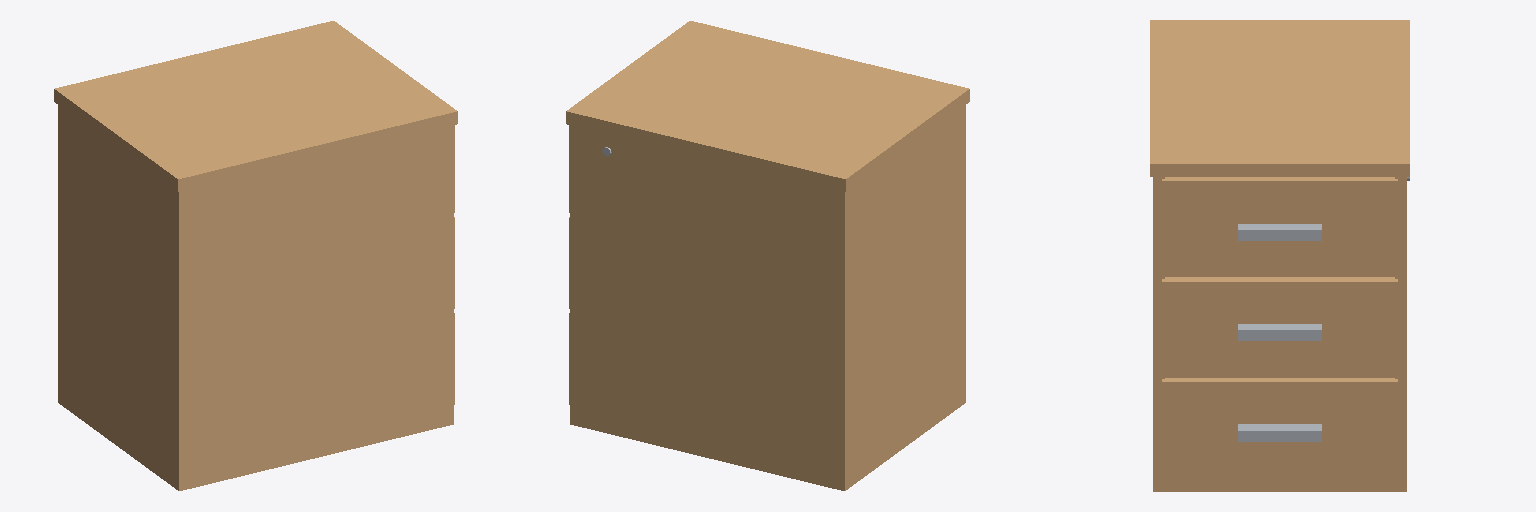
URDF robot description (three_drawer_pedestal):
<?xml version="1.0"?>
<robot name="three_drawer_pedestal">
  <material name="beech">
    <color rgba="0.87 0.71 0.53 1.0"/>
  </material>
  <material name="dark">
    <color rgba="0.15 0.15 0.17 1.0"/>
  </material>
  <material name="silver">
    <color rgba="0.75 0.77 0.80 1.0"/>
  </material>
  <material name="tray_grey">
    <color rgba="0.78 0.81 0.78 1.0"/>
  </material>

  <!-- BASE / CARCASS : frame at floor, x forward (drawer opening), y width, z up -->
  <link name="base_link">
    <inertial>
      <origin xyz="0 0 0.30" rpy="0 0 0"/>
      <mass value="22.0"/>
      <inertia ixx="0.98" ixy="0" ixz="0" iyy="1.21" iyz="0" izz="0.88"/>
    </inertial>
    <!-- top panel -->
    <visual>
      <origin xyz="0 0 0.5875" rpy="0 0 0"/>
      <geometry><box size="0.56 0.43 0.025"/></geometry>
      <material name="beech"/>
    </visual>
    <collision>
      <origin xyz="0 0 0.5875" rpy="0 0 0"/>
      <geometry><box size="0.56 0.43 0.025"/></geometry>
    </collision>
    <!-- bottom panel -->
    <visual>
      <origin xyz="0 0 0.0125" rpy="0 0 0"/>
      <geometry><box size="0.55 0.42 0.025"/></geometry>
      <material name="beech"/>
    </visual>
    <collision>
      <origin xyz="0 0 0.0125" rpy="0 0 0"/>
      <geometry><box size="0.55 0.42 0.025"/></geometry>
    </collision>
    <!-- left side -->
    <visual>
      <origin xyz="0 0.20 0.30" rpy="0 0 0"/>
      <geometry><box size="0.55 0.02 0.55"/></geometry>
      <material name="beech"/>
    </visual>
    <collision>
      <origin xyz="0 0.20 0.30" rpy="0 0 0"/>
      <geometry><box size="0.55 0.02 0.55"/></geometry>
    </collision>
    <!-- right side -->
    <visual>
      <origin xyz="0 -0.20 0.30" rpy="0 0 0"/>
      <geometry><box size="0.55 0.02 0.55"/></geometry>
      <material name="beech"/>
    </visual>
    <collision>
      <origin xyz="0 -0.20 0.30" rpy="0 0 0"/>
      <geometry><box size="0.55 0.02 0.55"/></geometry>
    </collision>
    <!-- back panel -->
    <visual>
      <origin xyz="-0.265 0 0.30" rpy="0 0 0"/>
      <geometry><box size="0.02 0.38 0.55"/></geometry>
      <material name="beech"/>
    </visual>
    <collision>
      <origin xyz="-0.265 0 0.30" rpy="0 0 0"/>
      <geometry><box size="0.02 0.38 0.55"/></geometry>
    </collision>
    <!-- lock cylinder on front-left side -->
    <visual>
      <origin xyz="0.20 0.211 0.54" rpy="1.5708 0 0"/>
      <geometry><cylinder radius="0.008" length="0.006"/></geometry>
      <material name="silver"/>
    </visual>
  </link>

  <!-- TOP DRAWER -->
  <link name="drawer_top">
    <inertial>
      <origin xyz="-0.24 0 -0.03" rpy="0 0 0"/>
      <mass value="3.5"/>
      <inertia ixx="0.04" ixy="0" ixz="0" iyy="0.06" iyz="0" izz="0.06"/>
    </inertial>
    <visual>
      <origin xyz="0 0 0" rpy="0 0 0"/>
      <geometry><box size="0.02 0.39 0.175"/></geometry>
      <material name="beech"/>
    </visual>
    <collision>
      <origin xyz="0 0 0" rpy="0 0 0"/>
      <geometry><box size="0.02 0.39 0.175"/></geometry>
    </collision>
    <visual>
      <origin xyz="0.0225 0 0" rpy="0 0 0"/>
      <geometry><box size="0.025 0.14 0.02"/></geometry>
      <material name="silver"/>
    </visual>
    <collision>
      <origin xyz="0.0225 0 0" rpy="0 0 0"/>
      <geometry><box size="0.025 0.14 0.02"/></geometry>
    </collision>
    <visual>
      <origin xyz="-0.24 0 -0.085" rpy="0 0 0"/>
      <geometry><box size="0.46 0.34 0.01"/></geometry>
      <material name="dark"/>
    </visual>
    <collision>
      <origin xyz="-0.24 0 -0.085" rpy="0 0 0"/>
      <geometry><box size="0.46 0.34 0.01"/></geometry>
    </collision>
    <visual>
      <origin xyz="-0.24 0.165 -0.025" rpy="0 0 0"/>
      <geometry><box size="0.46 0.01 0.12"/></geometry>
      <material name="dark"/>
    </visual>
    <visual>
      <origin xyz="-0.24 -0.165 -0.025" rpy="0 0 0"/>
      <geometry><box size="0.46 0.01 0.12"/></geometry>
      <material name="dark"/>
    </visual>
    <visual>
      <origin xyz="-0.465 0 -0.025" rpy="0 0 0"/>
      <geometry><box size="0.01 0.34 0.12"/></geometry>
      <material name="dark"/>
    </visual>
    <visual>
      <origin xyz="-0.36 0.08 0.0" rpy="0 0 0"/>
      <geometry><box size="0.12 0.12 0.05"/></geometry>
      <material name="tray_grey"/>
    </visual>
  </link>

  <!-- MIDDLE DRAWER -->
  <link name="drawer_middle">
    <inertial>
      <origin xyz="-0.24 0 -0.03" rpy="0 0 0"/>
      <mass value="3.5"/>
      <inertia ixx="0.04" ixy="0" ixz="0" iyy="0.06" iyz="0" izz="0.06"/>
    </inertial>
    <visual>
      <origin xyz="0 0 0" rpy="0 0 0"/>
      <geometry><box size="0.02 0.39 0.175"/></geometry>
      <material name="beech"/>
    </visual>
    <collision>
      <origin xyz="0 0 0" rpy="0 0 0"/>
      <geometry><box size="0.02 0.39 0.175"/></geometry>
    </collision>
    <visual>
      <origin xyz="0.0225 0 0" rpy="0 0 0"/>
      <geometry><box size="0.025 0.14 0.02"/></geometry>
      <material name="silver"/>
    </visual>
    <collision>
      <origin xyz="0.0225 0 0" rpy="0 0 0"/>
      <geometry><box size="0.025 0.14 0.02"/></geometry>
    </collision>
    <visual>
      <origin xyz="-0.24 0 -0.085" rpy="0 0 0"/>
      <geometry><box size="0.46 0.34 0.01"/></geometry>
      <material name="dark"/>
    </visual>
    <collision>
      <origin xyz="-0.24 0 -0.085" rpy="0 0 0"/>
      <geometry><box size="0.46 0.34 0.01"/></geometry>
    </collision>
    <visual>
      <origin xyz="-0.24 0.165 -0.025" rpy="0 0 0"/>
      <geometry><box size="0.46 0.01 0.12"/></geometry>
      <material name="dark"/>
    </visual>
    <visual>
      <origin xyz="-0.24 -0.165 -0.025" rpy="0 0 0"/>
      <geometry><box size="0.46 0.01 0.12"/></geometry>
      <material name="dark"/>
    </visual>
    <visual>
      <origin xyz="-0.465 0 -0.025" rpy="0 0 0"/>
      <geometry><box size="0.01 0.34 0.12"/></geometry>
      <material name="dark"/>
    </visual>
    <visual>
      <origin xyz="-0.36 0.08 0.0" rpy="0 0 0"/>
      <geometry><box size="0.12 0.12 0.05"/></geometry>
      <material name="tray_grey"/>
    </visual>
  </link>

  <!-- BOTTOM DRAWER -->
  <link name="drawer_bottom">
    <inertial>
      <origin xyz="-0.24 0 -0.03" rpy="0 0 0"/>
      <mass value="3.5"/>
      <inertia ixx="0.04" ixy="0" ixz="0" iyy="0.06" iyz="0" izz="0.06"/>
    </inertial>
    <visual>
      <origin xyz="0 0 0" rpy="0 0 0"/>
      <geometry><box size="0.02 0.39 0.175"/></geometry>
      <material name="beech"/>
    </visual>
    <collision>
      <origin xyz="0 0 0" rpy="0 0 0"/>
      <geometry><box size="0.02 0.39 0.175"/></geometry>
    </collision>
    <visual>
      <origin xyz="0.0225 0 0" rpy="0 0 0"/>
      <geometry><box size="0.025 0.14 0.02"/></geometry>
      <material name="silver"/>
    </visual>
    <collision>
      <origin xyz="0.0225 0 0" rpy="0 0 0"/>
      <geometry><box size="0.025 0.14 0.02"/></geometry>
    </collision>
    <visual>
      <origin xyz="-0.24 0 -0.085" rpy="0 0 0"/>
      <geometry><box size="0.46 0.34 0.01"/></geometry>
      <material name="dark"/>
    </visual>
    <collision>
      <origin xyz="-0.24 0 -0.085" rpy="0 0 0"/>
      <geometry><box size="0.46 0.34 0.01"/></geometry>
    </collision>
    <visual>
      <origin xyz="-0.24 0.165 -0.025" rpy="0 0 0"/>
      <geometry><box size="0.46 0.01 0.12"/></geometry>
      <material name="dark"/>
    </visual>
    <visual>
      <origin xyz="-0.24 -0.165 -0.025" rpy="0 0 0"/>
      <geometry><box size="0.46 0.01 0.12"/></geometry>
      <material name="dark"/>
    </visual>
    <visual>
      <origin xyz="-0.465 0 -0.025" rpy="0 0 0"/>
      <geometry><box size="0.01 0.34 0.12"/></geometry>
      <material name="dark"/>
    </visual>
    <visual>
      <origin xyz="-0.36 0.08 0.0" rpy="0 0 0"/>
      <geometry><box size="0.12 0.12 0.05"/></geometry>
      <material name="tray_grey"/>
    </visual>
  </link>

  <joint name="joint_top" type="prismatic">
    <parent link="base_link"/>
    <child link="drawer_top"/>
    <origin xyz="0.275 0 0.483" rpy="0 0 0"/>
    <axis xyz="1 0 0"/>
    <limit lower="0" upper="0.38" effort="50" velocity="0.5"/>
    <dynamics damping="10" friction="5"/>
  </joint>

  <joint name="joint_middle" type="prismatic">
    <parent link="base_link"/>
    <child link="drawer_middle"/>
    <origin xyz="0.275 0 0.30" rpy="0 0 0"/>
    <axis xyz="1 0 0"/>
    <limit lower="0" upper="0.38" effort="50" velocity="0.5"/>
    <dynamics damping="10" friction="5"/>
  </joint>

  <joint name="joint_bottom" type="prismatic">
    <parent link="base_link"/>
    <child link="drawer_bottom"/>
    <origin xyz="0.275 0 0.117" rpy="0 0 0"/>
    <axis xyz="1 0 0"/>
    <limit lower="0" upper="0.38" effort="50" velocity="0.5"/>
    <dynamics damping="10" friction="5"/>
  </joint>
</robot>

--- Facts derived from the render (not from the file) ---
Views: 3 orthographic renders of the robot side by side, from view 1: azimuth 30°, elevation 25°; view 2: azimuth 150°, elevation 25°; view 3: azimuth 270°, elevation 25°.
Robot: three_drawer_pedestal — 4 links, 3 joints (3 prismatic); root link base_link; default pose: every joint at zero.
Visible links, largest first — view 1: base_link; view 2: base_link; view 3: base_link, drawer_middle, drawer_bottom, drawer_top.
Boxes of the visible links, x1,y1,x2,y2 form: base_link: [54, 21, 457, 490]; base_link: [566, 21, 969, 490]; base_link: [1150, 20, 1409, 491]; drawer_middle: [1162, 277, 1397, 377]; drawer_bottom: [1162, 378, 1397, 477]; drawer_top: [1162, 177, 1397, 276].
Size in the robot's own frame: 0.59 by 0.43 by 0.6 metres.
Geometry: primitives only (box / cylinder / sphere), no mesh files.
